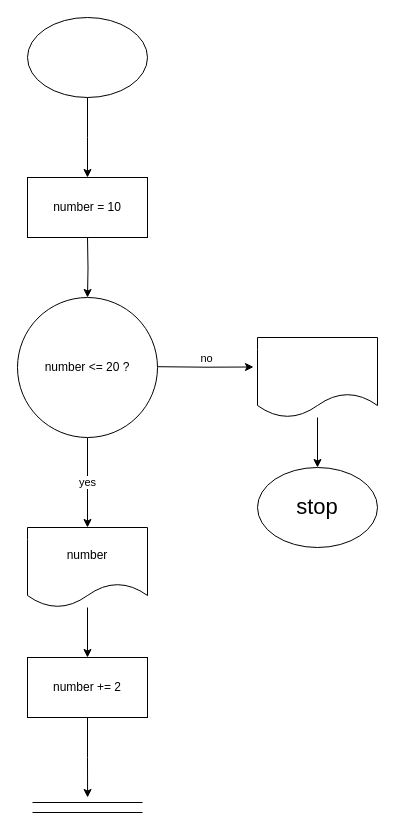
The diagram is 395 pixels wide and 830 high, and some of its shapes have lost their labels. The box of each missing label's shape, as (x1, y1, x2, y2) in pixels:
"finish": (256, 336, 378, 418)
start: (26, 16, 148, 98)
